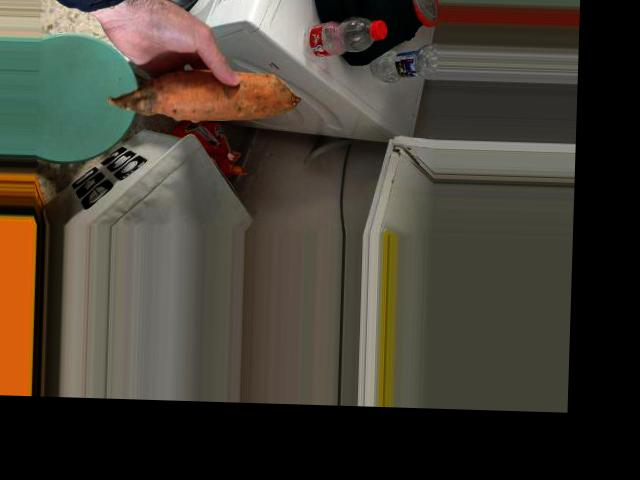sweet_potato: (124, 61, 278, 123)
